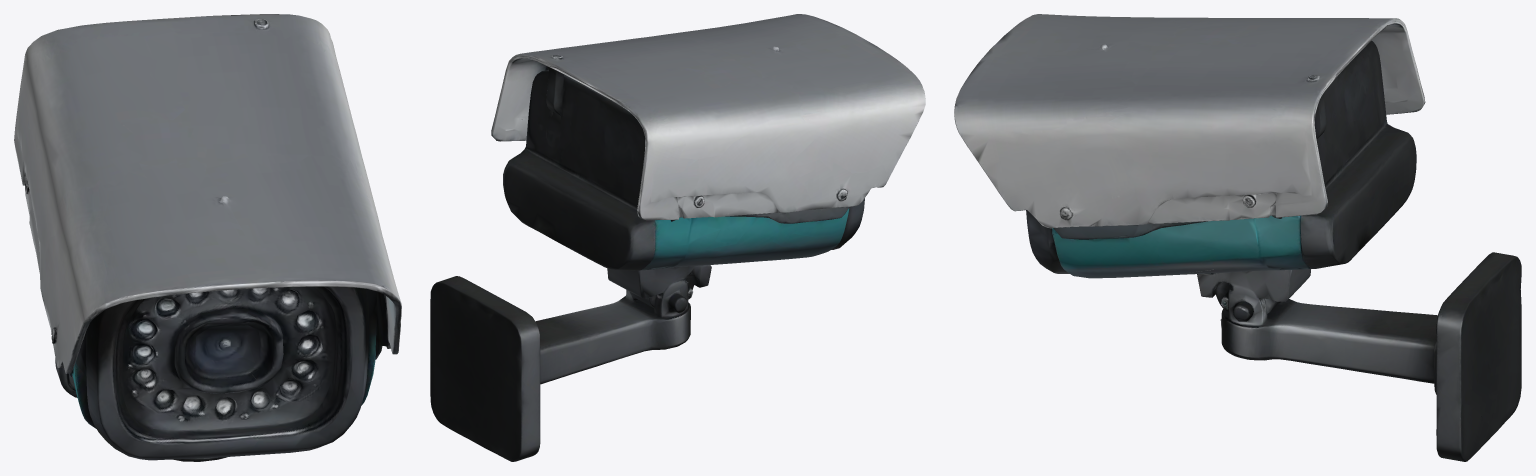
File: security.glb
The picture shows the model from 3 angles, left to right: view 1: azimuth 30°, elevation 25°; view 2: azimuth 150°, elevation 25°; view 3: azimuth 270°, elevation 25°; orthographic projection. The views are drawn at different scales.
Parts seen in each view (by area): view 1: tripo_node_0c36d1be-5cc0-4eae-851c-7ad0adcabc14; view 2: tripo_node_0c36d1be-5cc0-4eae-851c-7ad0adcabc14; view 3: tripo_node_0c36d1be-5cc0-4eae-851c-7ad0adcabc14.
Part boxes in pixels (x1,y1,x2,y2): tripo_node_0c36d1be-5cc0-4eae-851c-7ad0adcabc14: (14, 14, 401, 461); tripo_node_0c36d1be-5cc0-4eae-851c-7ad0adcabc14: (430, 14, 925, 461); tripo_node_0c36d1be-5cc0-4eae-851c-7ad0adcabc14: (954, 14, 1521, 461).
Size of the model in its own units: 0.7316 by 0.741 by 1.05.
Materials: 1 (1 with a texture image).
